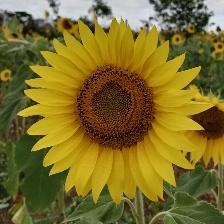sunflower: (16, 12, 218, 206), (176, 88, 224, 166), (55, 15, 73, 37), (5, 28, 24, 46), (185, 21, 199, 36), (75, 22, 86, 40), (3, 69, 14, 84), (212, 50, 224, 61), (173, 34, 184, 46), (214, 39, 224, 52)
